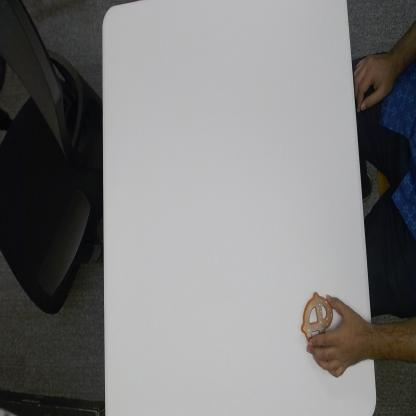Pretzel: (307, 290, 375, 380), (302, 289, 336, 340)
